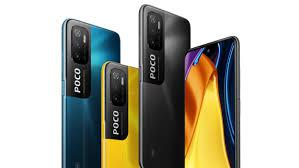Smartphone: (58, 18, 119, 168), (143, 4, 190, 168), (187, 36, 238, 168), (105, 63, 140, 168)
